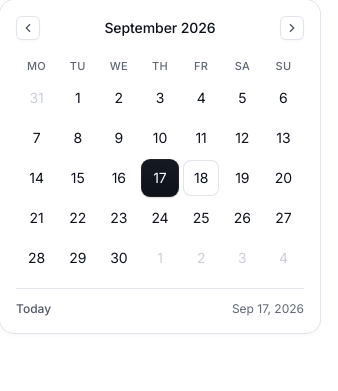
Test: Datepicker › navigates months with previous/next controls
This screenshot has width=338, height=391.
Click the button named "Next month" at (292, 28), box x1=280 y1=16 x2=304 y2=40
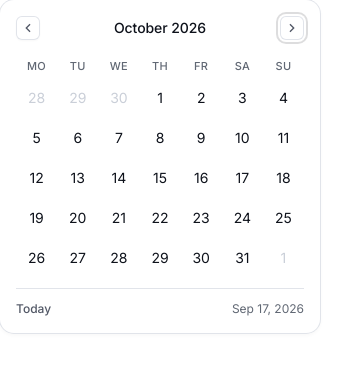
Now the text "October 2026" is shown, box x1=114 y1=18 x2=206 y2=38
Click the button named "Previous month" at (28, 28), box x1=16 y1=16 x2=40 y2=40
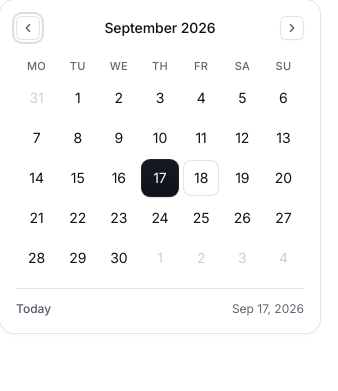
Click the button named "Previous month" at (28, 28), box x1=16 y1=16 x2=40 y2=40
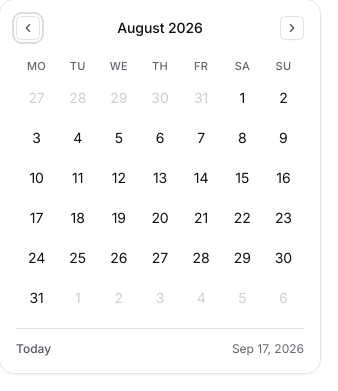
Now the text "August 2026" is shown, box x1=117 y1=18 x2=203 y2=38
